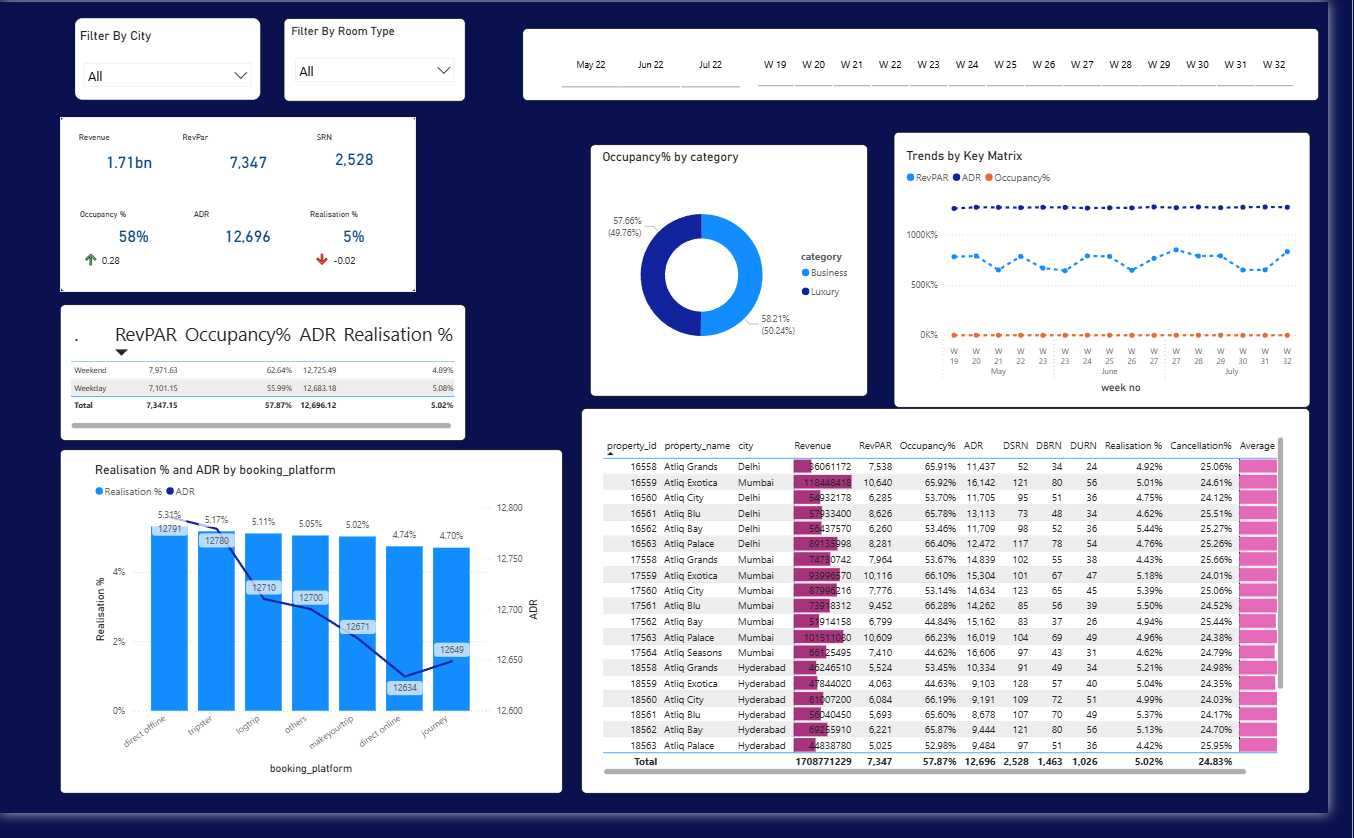

Layout of this report page (visuals, bound fields, positions):
{"tool":"powerbi","page":{"name":"Page 1","canvas":[1800,1100],"ordinal":0},"visuals":[{"type":"textbox","box":[788,550,988,522],"z":0},{"type":"textbox","box":[81.2,606.2,681.2,466.2],"z":1000},{"type":"textbox","box":[1211.7,176.7,565,373.3],"z":2000},{"type":"textbox","box":[708.3,35,1080,98.3],"z":3000},{"type":"textbox","box":[800,193.3,376.7,341.7],"z":4000},{"type":"textbox","box":[81.2,410,550,185],"z":5000},{"type":"textbox","box":[385,21.2,246.2,112.5],"z":6000},{"type":"textbox","box":[102.2,22.2,251.1,110],"z":7000},{"type":"tableEx","fields":{"Values":["dim_hotels.property_id","dim_hotels.property_name","dim_hotels.city","key_measure_table.Revenue","key_measure_table.RevPAR","key_measure_table.Occupancy%","key_measure_table.ADR","key_measure_table.DSRN","key_measure_table.DBRN","key_measure_table.DURN","key_measure_table.Realisation %","key_measure_table.Cancellation%"]},"box":[812,584,934,468],"z":8000},{"type":"slicer","title":"Filter By City","fields":{"Values":["dim_hotels.city"]},"box":[103.8,35,247.5,90],"z":9000},{"type":"slicer","title":"Filter By Room Type","fields":{"Values":["dim_rooms.room_class"]},"box":[390,31.2,236.2,97.5],"z":10000},{"type":"slicer","fields":{"Values":["dim_date.week no"]},"box":[1000.7,47.4,776.7,73.6],"z":11000},{"type":"donutChart","fields":{"Category":["dim_hotels.category"],"Y":["key_measure_table.Occupancy%"]},"box":[811.7,200,353.3,321.7],"z":12000},{"type":"tableEx","fields":{"Values":["key_measure_table.Revenu WoW change%"]},"box":[104,176.3,158.1,72.1],"z":13000},{"type":"lineChart","title":"Trends by Key Matrix","fields":{"Category":["dim_date.mmm yy.Variation.Date Hierarchy.Month","dim_date.week no"],"Y":["key_measure_table.RevPAR","key_measure_table.ADR","key_measure_table.Occupancy%"]},"box":[1223.3,198.3,540,336.7],"z":14000},{"type":"lineStackedColumnComboChart","fields":{"Y2":["key_measure_table.ADR"],"Y":["key_measure_table.Realisation %"],"Category":["fact_bookings.booking_platform"]},"box":[124,624,612,428],"z":15000},{"type":"tableEx","fields":{"Values":["key_measure_table.Revpar WoW change%"]},"box":[258.3,211.7,158.3,70],"z":16000},{"type":"tableEx","fields":{"Values":["dim_date.day_type","key_measure_table.RevPAR","key_measure_table.Occupancy%","key_measure_table.ADR","key_measure_table.Realisation %"]},"box":[90,423.8,531.2,160],"z":17000},{"type":"tableEx","fields":{"Values":["key_measure_table.Revenu WoW change%"]},"box":[415,211.7,128.3,70],"z":18000},{"type":"slicer","fields":{"Values":["dim_date.mmm yy"]},"box":[735,46.7,291.7,75],"z":19000},{"type":"tableEx","fields":{"Values":["key_measure_table.ADR Wow change%"]},"box":[258.3,305,158.3,71.7],"z":20000},{"type":"tableEx","fields":{"Values":["key_measure_table.Revenu WoW change%"]},"box":[101.7,211.7,160,70],"z":21000},{"type":"textbox","box":[81.7,156.7,483.3,236.7],"z":22000},{"type":"tableEx","fields":{"Values":["key_measure_table.Realisation WoW change%"]},"box":[416.7,305,126.7,71.7],"z":23000},{"type":"card","title":"Revenue","fields":{"Values":["key_measure_table.Revenue"]},"box":[101.7,176.7,146.7,70],"z":24000},{"type":"card","title":"DSRN","fields":{"Values":["key_measure_table.DSRN"]},"box":[416.7,176.7,126.7,61.7],"z":25000},{"type":"card","title":"RevPar","fields":{"Values":["key_measure_table.RevPAR"]},"box":[241.7,176.7,188.3,70],"z":26000},{"type":"tableEx","fields":{"Values":["key_measure_table.Occupancy WoW change %"]},"box":[103.7,305.2,158.1,71.4],"z":27000},{"type":"card","title":"ADR","fields":{"Values":["key_measure_table.ADR"]},"box":[258.3,281.7,156.7,60],"z":28000},{"type":"card","title":"Realisation %","fields":{"Values":["key_measure_table.Realisation %"]},"box":[415,281.7,128.3,60],"z":29000},{"type":"card","title":"Occupancy %","fields":{"Values":["key_measure_table.Occupancy%"]},"box":[103.3,281.7,155,60],"z":30000}]}

Visuals, with their boxes in screenshot pixels (x1, y1, x2, y2), scaled from the page's 1800x1100 canvas onto the 1354x838 screenshot:
textbox: Rect(593, 419, 1336, 817)
textbox: Rect(61, 462, 573, 817)
textbox: Rect(911, 135, 1336, 419)
textbox: Rect(533, 27, 1345, 102)
textbox: Rect(602, 147, 885, 408)
textbox: Rect(61, 312, 475, 453)
textbox: Rect(290, 16, 475, 102)
textbox: Rect(77, 17, 266, 101)
tableEx - dim_hotels.property_id x dim_hotels.property_name: Rect(611, 445, 1313, 801)
"Filter By City" slicer: Rect(78, 27, 264, 95)
"Filter By Room Type" slicer: Rect(293, 24, 471, 98)
slicer - dim_date.week no: Rect(753, 36, 1337, 92)
donutChart - dim_hotels.category x key_measure_table.Occupancy%: Rect(611, 152, 876, 397)
tableEx - key_measure_table.Revenu WoW change%: Rect(78, 134, 197, 189)
"Trends by Key Matrix" lineChart: Rect(920, 151, 1326, 408)
lineStackedColumnComboChart - key_measure_table.ADR x key_measure_table.Realisation %: Rect(93, 475, 554, 801)
tableEx - key_measure_table.Revpar WoW change%: Rect(194, 161, 313, 215)
tableEx - dim_date.day_type x key_measure_table.RevPAR: Rect(68, 323, 467, 445)
tableEx - key_measure_table.Revenu WoW change%: Rect(312, 161, 409, 215)
slicer - dim_date.mmm yy: Rect(553, 36, 772, 93)
tableEx - key_measure_table.ADR Wow change%: Rect(194, 232, 313, 287)
tableEx - key_measure_table.Revenu WoW change%: Rect(77, 161, 197, 215)
textbox: Rect(61, 119, 425, 300)
tableEx - key_measure_table.Realisation WoW change%: Rect(313, 232, 409, 287)
"Revenue" card: Rect(77, 135, 187, 188)
"DSRN" card: Rect(313, 135, 409, 182)
"RevPar" card: Rect(182, 135, 323, 188)
tableEx - key_measure_table.Occupancy WoW change %: Rect(78, 233, 197, 287)
"ADR" card: Rect(194, 215, 312, 260)
"Realisation %" card: Rect(312, 215, 409, 260)
"Occupancy %" card: Rect(78, 215, 194, 260)
